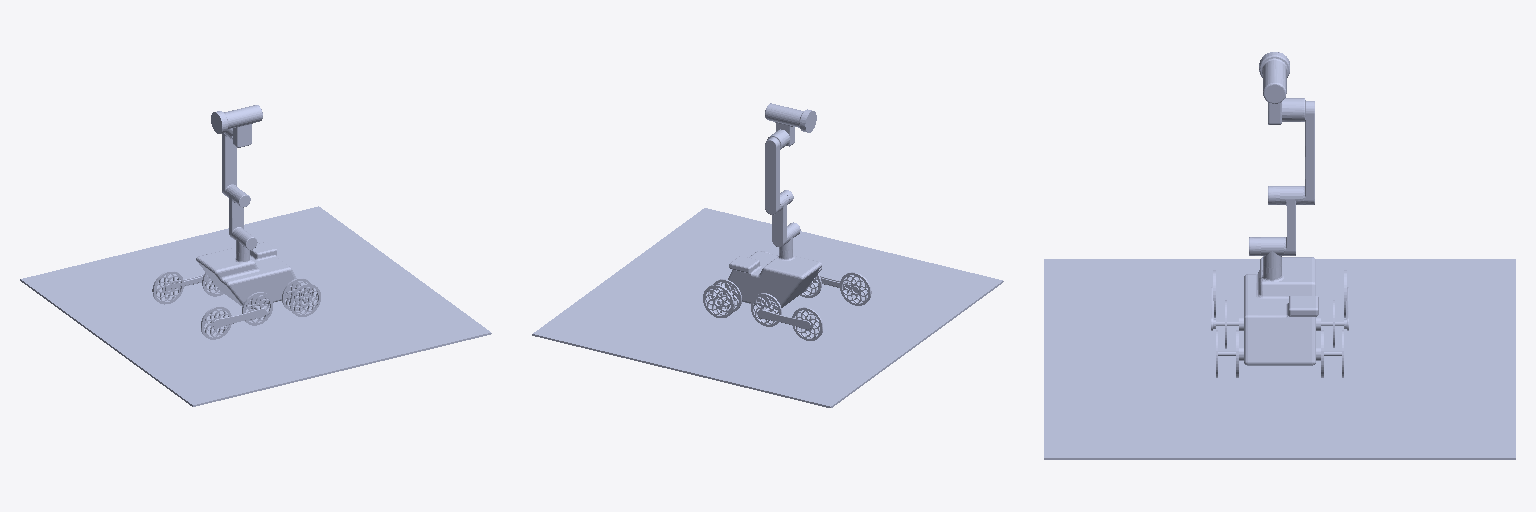
The robot description file, URDF, robot "Taurob_Gasfinder_Assembly":
<?xml version="1.0" encoding="utf-8"?>
<!-- This URDF was automatically created by SolidWorks to URDF Exporter! Originally created by Stephen Brawner (brawner@gmail.com) 
     Commit Version: 1.6.0-4-g7f85cfe  Build Version: 1.6.7995.38578
     For more information, please see http://wiki.ros.org/sw_urdf_exporter -->
<robot
  name="Taurob_Gasfinder_Assembly">
  <link
    name="base_link">
    <inertial>
      <origin
        xyz="0.007761 3.4698E-16 -0.18504"
        rpy="0 0 0" />
      <mass
        value="763.47" />
      <inertia
        ixx="1562.8"
        ixy="1.4448E-13"
        ixz="-2.0526E-06"
        iyy="1563.1"
        iyz="9.4512E-14"
        izz="3125.3" />
    </inertial>
    <visual>
      <origin
        xyz="0 0 0"
        rpy="0 0 0" />
      <geometry>
        <mesh
          filename="package://Taurob_Gasfinder_Assembly/meshes/base_link.STL" />
      </geometry>
      <material
        name="">
        <color
          rgba="0.79216 0.81961 0.93333 1" />
      </material>
    </visual>
    <collision>
      <origin
        xyz="0 0 0"
        rpy="0 0 0" />
      <geometry>
        <mesh
          filename="package://Taurob_Gasfinder_Assembly/meshes/base_link.STL" />
      </geometry>
    </collision>
  </link>
  <link
    name="first">
    <inertial>
      <origin
        xyz="0.51393 -0.22123 -0.69826"
        rpy="0 0 0" />
      <mass
        value="490.79" />
      <inertia
        ixx="37.877"
        ixy="11.078"
        ixz="0.87439"
        iyy="75.007"
        iyz="-1.8652"
        izz="68.022" />
    </inertial>
    <visual>
      <origin
        xyz="0 0 0"
        rpy="0 0 0" />
      <geometry>
        <mesh
          filename="package://Taurob_Gasfinder_Assembly/meshes/first.STL" />
      </geometry>
      <material
        name="">
        <color
          rgba="0.79216 0.81961 0.93333 1" />
      </material>
    </visual>
    <collision>
      <origin
        xyz="0 0 0"
        rpy="0 0 0" />
      <geometry>
        <mesh
          filename="package://Taurob_Gasfinder_Assembly/meshes/first.STL" />
      </geometry>
    </collision>
  </link>
  <joint
    name="first_joint"
    type="revolute">
    <origin
      xyz="0.432470565879692 -0.683 0.08"
      rpy="-1.5707963267949 0 -3.14159265358979" />
    <parent
      link="base_link" />
    <child
      link="first" />
    <axis
      xyz="0 0 -1" />
    <limit
      lower="0"
      upper="1.6"
      effort="0"
      velocity="0" />
  </joint>
  <link
    name="Coordinate_0">
    <inertial>
      <origin
        xyz="-5.5511E-17 0 0.13"
        rpy="0 0 0" />
      <mass
        value="0.31416" />
      <inertia
        ixx="0.00078802"
        ixy="-2.5016E-19"
        ixz="-3.5441E-20"
        iyy="0.00078802"
        iyz="-3.1993E-20"
        izz="0.0015708" />
    </inertial>
    <visual>
      <origin
        xyz="0 0 0"
        rpy="0 0 0" />
      <geometry>
        <mesh
          filename="package://Taurob_Gasfinder_Assembly/meshes/Coordinate_0.STL" />
      </geometry>
      <material
        name="">
        <color
          rgba="0.79216 0.81961 0.93333 1" />
      </material>
    </visual>
    <collision>
      <origin
        xyz="0 0 0"
        rpy="0 0 0" />
      <geometry>
        <mesh
          filename="package://Taurob_Gasfinder_Assembly/meshes/Coordinate_0.STL" />
      </geometry>
    </collision>
  </link>
  <joint
    name="Coordinate_0_joint"
    type="fixed">
    <origin
      xyz="0.692470565879692 -0.595 -0.603"
      rpy="1.5707963267949 0 0" />
    <parent
      link="first" />
    <child
      link="Coordinate_0" />
    <axis
      xyz="0 0 0" />
    <limit
      lower="0"
      upper="0"
      effort="0"
      velocity="0" />
  </joint>
  <link
    name="Coordinate_Torsion">
    <inertial>
      <origin
        xyz="1.078E-08 4.1633E-17 0.11008"
        rpy="0 0 0" />
      <mass
        value="5.1142" />
      <inertia
        ixx="0.048819"
        ixy="-5.322E-08"
        ixz="5.5272E-09"
        iyy="0.049542"
        iyz="-2.6383E-17"
        izz="0.033552" />
    </inertial>
    <visual>
      <origin
        xyz="0 0 0"
        rpy="0 0 0" />
      <geometry>
        <mesh
          filename="package://Taurob_Gasfinder_Assembly/meshes/Coordinate_Torsion.STL" />
      </geometry>
      <material
        name="">
        <color
          rgba="0.79216 0.81961 0.93333 1" />
      </material>
    </visual>
    <collision>
      <origin
        xyz="0 0 0"
        rpy="0 0 0" />
      <geometry>
        <mesh
          filename="package://Taurob_Gasfinder_Assembly/meshes/Coordinate_Torsion.STL" />
      </geometry>
    </collision>
  </link>
  <joint
    name="Coordinate_Torsion_joint"
    type="revolute">
    <origin
      xyz="0 0 0.125"
      rpy="0 0 0" />
    <parent
      link="Coordinate_0" />
    <child
      link="Coordinate_Torsion" />
    <axis
      xyz="0 0 -1" />
    <limit
      lower="-3.2"
      upper="3.2"
      effort="0"
      velocity="0" />
  </joint>
  <link
    name="Coordinate_1">
    <inertial>
      <origin
        xyz="-5.1977E-05 -0.14468 -0.084264"
        rpy="0 0 0" />
      <mass
        value="24.526" />
      <inertia
        ixx="1.5804"
        ixy="-0.00019746"
        ixz="-8.5811E-05"
        iyy="0.64307"
        iyz="-0.41047"
        izz="1.0794" />
    </inertial>
    <visual>
      <origin
        xyz="0 0 0"
        rpy="0 0 0" />
      <geometry>
        <mesh
          filename="package://Taurob_Gasfinder_Assembly/meshes/Coordinate_1.STL" />
      </geometry>
      <material
        name="">
        <color
          rgba="0.79216 0.81961 0.93333 1" />
      </material>
    </visual>
    <collision>
      <origin
        xyz="0 0 0"
        rpy="0 0 0" />
      <geometry>
        <mesh
          filename="package://Taurob_Gasfinder_Assembly/meshes/Coordinate_1.STL" />
      </geometry>
    </collision>
  </link>
  <joint
    name="Coordinate_1_joint"
    type="revolute">
    <origin
      xyz="0 0 0.21"
      rpy="-1.5707963267949 0 0" />
    <parent
      link="Coordinate_Torsion" />
    <child
      link="Coordinate_1" />
    <axis
      xyz="0 0 -1" />
    <limit
      lower="-3.2"
      upper="3.2"
      effort="0"
      velocity="0" />
  </joint>
  <link
    name="Coordinate_2">
    <inertial>
      <origin
        xyz="0.38672 -2.5094E-07 -0.31263"
        rpy="0 0 0" />
      <mass
        value="36.832" />
      <inertia
        ixx="0.80593"
        ixy="7.7203E-07"
        ixz="0.86422"
        iyy="6.2877"
        iyz="2.1207E-07"
        izz="5.711" />
    </inertial>
    <visual>
      <origin
        xyz="0 0 0"
        rpy="0 0 0" />
      <geometry>
        <mesh
          filename="package://Taurob_Gasfinder_Assembly/meshes/Coordinate_2.STL" />
      </geometry>
      <material
        name="">
        <color
          rgba="0.79216 0.81961 0.93333 1" />
      </material>
    </visual>
    <collision>
      <origin
        xyz="0 0 0"
        rpy="0 0 0" />
      <geometry>
        <mesh
          filename="package://Taurob_Gasfinder_Assembly/meshes/Coordinate_2.STL" />
      </geometry>
    </collision>
  </link>
  <joint
    name="Coordinate_2_joint"
    type="revolute">
    <origin
      xyz="0 -0.6 0"
      rpy="0 0 -1.5707963267949" />
    <parent
      link="Coordinate_1" />
    <child
      link="Coordinate_2" />
    <axis
      xyz="0 0 -1" />
    <limit
      lower="-3.2"
      upper="3.2"
      effort="0"
      velocity="0" />
  </joint>
  <link
    name="Coordinate_3">
    <inertial>
      <origin
        xyz="0.20964 0.062511 -0.055142"
        rpy="0 0 0" />
      <mass
        value="60.238" />
      <inertia
        ixx="2.4612"
        ixy="-0.41556"
        ixz="-0.38065"
        iyy="2.1039"
        iyz="-0.1135"
        izz="3.5079" />
    </inertial>
    <visual>
      <origin
        xyz="0 0 0"
        rpy="0 0 0" />
      <geometry>
        <mesh
          filename="package://Taurob_Gasfinder_Assembly/meshes/Coordinate_3.STL" />
      </geometry>
      <material
        name="">
        <color
          rgba="0.79216 0.81961 0.93333 1" />
      </material>
    </visual>
    <collision>
      <origin
        xyz="0 0 0"
        rpy="0 0 0" />
      <geometry>
        <mesh
          filename="package://Taurob_Gasfinder_Assembly/meshes/Coordinate_3.STL" />
      </geometry>
    </collision>
  </link>
  <joint
    name="Coordinate_3_joint"
    type="revolute">
    <origin
      xyz="1 0 0"
      rpy="0 0 0" />
    <parent
      link="Coordinate_2" />
    <child
      link="Coordinate_3" />
    <axis
      xyz="0 0 -1" />
    <limit
      lower="-3.2"
      upper="3.2"
      effort="0"
      velocity="0" />
  </joint>
  <link
    name="EE">
    <inertial>
      <origin
        xyz="-8.8818E-16 0.025 0.005"
        rpy="0 0 0" />
      <mass
        value="0.8553" />
      <inertia
        ixx="0.0058285"
        ixy="-2.0781E-19"
        ixz="-1.3516E-18"
        iyy="0.0058285"
        iyz="1.6552E-21"
        izz="0.011643" />
    </inertial>
    <visual>
      <origin
        xyz="0 0 0"
        rpy="0 0 0" />
      <geometry>
        <mesh
          filename="package://Taurob_Gasfinder_Assembly/meshes/EE.STL" />
      </geometry>
      <material
        name="">
        <color
          rgba="0.79216 0.81961 0.93333 1" />
      </material>
    </visual>
    <collision>
      <origin
        xyz="0 0 0"
        rpy="0 0 0" />
      <geometry>
        <mesh
          filename="package://Taurob_Gasfinder_Assembly/meshes/EE.STL" />
      </geometry>
    </collision>
  </link>
  <joint
    name="EE"
    type="fixed">
    <origin
      xyz="0.320000000000001 0.42 0"
      rpy="-1.5707963267949 0 0" />
    <parent
      link="Coordinate_3" />
    <child
      link="EE" />
    <axis
      xyz="0 0 0" />
  </joint>
  <link
    name="CS_Link">
    <inertial>
      <origin
        xyz="0.57177 0.733 0.00073917"
        rpy="0 0 0" />
      <mass
        value="13.094" />
      <inertia
        ixx="0.14283"
        ixy="2.6905E-18"
        ixz="1.0263E-06"
        iyy="0.75414"
        iyz="-4.1191E-09"
        izz="0.61392" />
    </inertial>
    <visual>
      <origin
        xyz="0 0 0"
        rpy="0 0 0" />
      <geometry>
        <mesh
          filename="package://Taurob_Gasfinder_Assembly/meshes/CS_Link.STL" />
      </geometry>
      <material
        name="">
        <color
          rgba="0.79216 0.81961 0.93333 1" />
      </material>
    </visual>
    <collision>
      <origin
        xyz="0 0 0"
        rpy="0 0 0" />
      <geometry>
        <mesh
          filename="package://Taurob_Gasfinder_Assembly/meshes/CS_Link.STL" />
      </geometry>
    </collision>
  </link>
  <joint
    name="CS_Link"
    type="revolute">
    <origin
      xyz="0.744555036388265 0 -1.416"
      rpy="1.5707963267949 0 0" />
    <parent
      link="first" />
    <child
      link="CS_Link" />
    <axis
      xyz="0 1 0" />
    <limit
      lower="0"
      upper="0"
      effort="0"
      velocity="0" />
  </joint>
</robot>

--- What the picture shows (computed from the rendered views, not written in the file) ---
The picture shows the robot from 3 angles, left to right: view 1: azimuth 30°, elevation 25°; view 2: azimuth 150°, elevation 25°; view 3: azimuth 270°, elevation 25°; orthographic projection.
Model Taurob_Gasfinder_Assembly with 9 links and 8 joints (6 revolute, 2 fixed), rooted at base_link, posed every joint at zero.
Visible links, largest first — view 1: base_link, first, CS_Link, Coordinate_3, Coordinate_2, Coordinate_1; view 2: base_link, first, CS_Link, Coordinate_2, Coordinate_3, Coordinate_1; view 3: base_link, first, Coordinate_2, Coordinate_3, Coordinate_1, Coordinate_Torsion, CS_Link.
Link boxes in pixels (x1,y1,x2,y2): base_link: (20, 206, 491, 406); first: (196, 242, 306, 325); CS_Link: (152, 271, 266, 339); Coordinate_3: (217, 105, 262, 147); Coordinate_2: (222, 128, 250, 207); Coordinate_1: (226, 186, 257, 249); base_link: (532, 208, 1003, 407); first: (717, 249, 821, 326); CS_Link: (757, 272, 871, 340); Coordinate_2: (765, 129, 793, 214); Coordinate_3: (765, 103, 811, 146); Coordinate_1: (772, 193, 800, 246); base_link: (1044, 259, 1515, 459); first: (1216, 257, 1343, 365); Coordinate_2: (1268, 98, 1314, 204); Coordinate_3: (1259, 52, 1289, 124); Coordinate_1: (1249, 186, 1302, 255); Coordinate_Torsion: (1261, 237, 1283, 267); CS_Link: (1211, 270, 1348, 330).
Bounding box of the posed robot: 5 × 5 × 3.3 m (x, y, z).
9 mesh visuals loaded from 9 distinct referenced files (9 binary STL).
